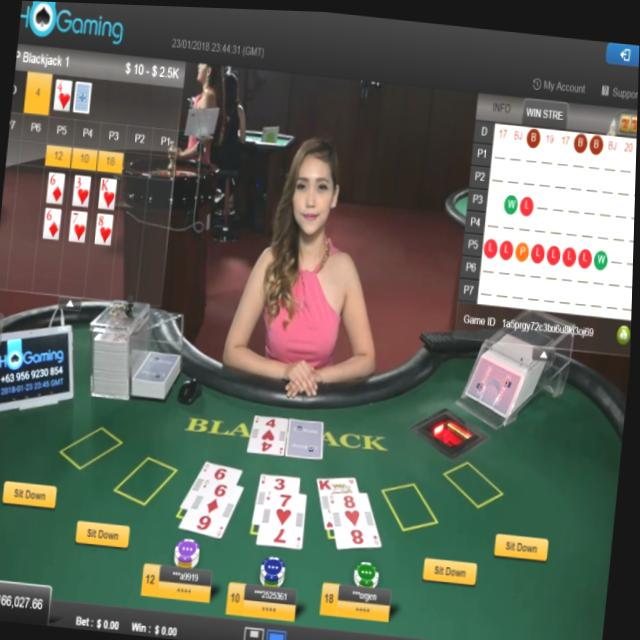Card-3: (254, 470, 302, 522)
Card-4: (248, 410, 291, 452)
Card-6: (179, 477, 245, 538), (181, 459, 245, 504)
Card-7: (259, 494, 308, 544)
Card-8: (333, 490, 384, 544)
Card-K: (319, 472, 361, 526)
